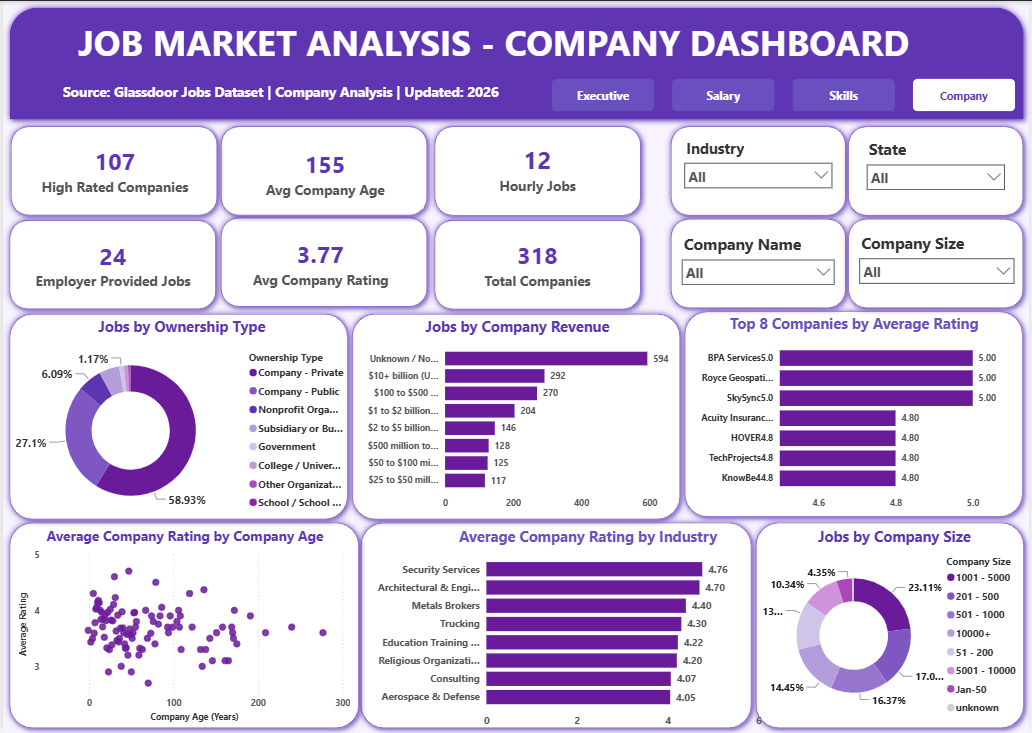

The dashboard page shown, as its layout file describes it:
{"tool":"powerbi","page":{"name":"Company","canvas":[1400,1000],"ordinal":3},"visuals":[{"type":"shape","box":[920.3,414.1,478.9,298.2],"z":0},{"type":"shape","box":[1017.4,702.1,383.4,298.2],"z":1000},{"type":"shape","box":[478.9,702.1,550.4,298.2],"z":2000},{"type":"shape","box":[0,702.1,494.2,298.2],"z":3000},{"type":"shape","box":[466.9,417.5,465.2,298.2],"z":4000},{"type":"shape","box":[0,417.5,478.9,298.2],"z":5000},{"type":"shape","box":[900.7,161.1,256.4,139.7],"z":6000},{"type":"shape","box":[1143.9,161.1,256.4,139.7],"z":7000},{"type":"shape","box":[900.7,287.6,256.4,139.7],"z":8000},{"type":"shape","box":[1143.9,287.6,256.4,139.7],"z":9000},{"type":"shape","box":[580.2,289.3,299.1,139.7],"z":10000},{"type":"shape","box":[580.2,161.1,299.1,139.7],"z":11000},{"type":"shape","box":[288.5,286.9,299.5,139.5],"z":12000},{"type":"shape","box":[288.5,161.5,299.5,139.5],"z":13000},{"type":"shape","box":[0,290,299.5,139.5],"z":14000},{"type":"shape","box":[1.6,161.5,299.5,139.5],"z":15000},{"type":"cardVisual","fields":{"Data":["Measures (2).High Rating Companies"]},"box":[17.2,172.5,271.2,117.6],"z":16000},{"type":"shape","box":[0,0,1400.3,170.2],"z":17000},{"type":"textbox","box":[8.5,18.7,1320.7,86.9],"z":18000},{"type":"cardVisual","fields":{"Data":["Measures (2).Total Companies"]},"box":[606.5,300.8,244.9,118.3],"z":19000},{"type":"cardVisual","fields":{"Data":["Measures (2).Average Company Rating"]},"box":[300.8,297.5,266.3,118.3],"z":20000},{"type":"cardVisual","fields":{"Data":["Measures (2).Average Company Age"]},"box":[297.9,178.7,282.2,111.3],"z":21000},{"type":"cardVisual","fields":{"Data":["Measures (2).Total Hourly Jobs"]},"box":[603.2,170.9,251.5,116.7],"z":22000},{"type":"cardVisual","fields":{"Data":["Measures (2).Employer Provided Jobs"]},"box":[7.8,305.7,283.8,109.7],"z":23000},{"type":"slicer","fields":{"Values":["Job_Market_Analysis.Company Name"]},"box":[915.5,312.3,228.5,95.3],"z":24000},{"type":"slicer","fields":{"Values":["Job_Market_Analysis.Company Size"]},"box":[1157.1,310.6,231.7,98.6],"z":25000},{"type":"slicer","fields":{"Values":["Job_Market_Analysis.State"]},"box":[1166.9,182.4,208.7,95.3],"z":26000},{"type":"slicer","fields":{"Values":["Job_Market_Analysis.Industry"]},"box":[918.8,182.4,221.9,100.3],"z":27000},{"type":"clusteredBarChart","title":"Average Company Rating by Industry","fields":{"Category":["Job_Market_Analysis.Industry"],"Y":["Measures (2).Avg Company Rating"]},"box":[494.2,715.8,606.7,284.6],"z":28000},{"type":"donutChart","title":"Jobs by Company Size","fields":{"Y":["Measures (2).Total Jobs"],"Category":["Job_Market_Analysis.Company Size"]},"box":[1029.3,715.8,371.5,272.7],"z":29000},{"type":"clusteredBarChart","title":"Jobs by Company Revenue","fields":{"Category":["Job_Market_Analysis.Company Revenue"],"Y":["Measures (2).Total Jobs"]},"box":[478.9,429.5,444.8,272.7],"z":30000},{"type":"donutChart","title":"Jobs by Ownership Type","fields":{"Category":["Job_Market_Analysis.Ownership Type"],"Y":["Measures (2).Total Jobs"]},"box":[8.5,429.5,470.4,286.3],"z":31000},{"type":"scatterChart","title":"Average Company Rating by Company Age","fields":{"X":["Job_Market_Analysis.Company Age"],"Y":["Avg(Job_Market_Analysis.Company Rating)"]},"box":[17,715.8,461.8,272.7],"z":32000},{"type":"clusteredBarChart","title":"Top 8 Companies by Average Rating","fields":{"Category":["Job_Market_Analysis.Company Name"],"Y":["Measures (2).Avg Company Rating"]},"box":[932.2,426,456.7,276.1],"z":33000},{"type":"pageNavigator","box":[748.8,105.3,632.1,45.4],"z":34000},{"type":"textbox","box":[22.7,105.3,713.1,45.4],"z":35000}]}

Visuals, with their boxes in screenshot pixels (x1, y1, x2, y2), scaled from the page's 1400x1000 canvas onto the 1032x733 screenshot:
shape: <box>678,304,1031,522</box>
shape: <box>750,515,1031,732</box>
shape: <box>353,515,759,732</box>
shape: <box>0,515,364,732</box>
shape: <box>344,306,687,525</box>
shape: <box>0,306,353,525</box>
shape: <box>664,118,853,220</box>
shape: <box>843,118,1031,220</box>
shape: <box>664,211,853,313</box>
shape: <box>843,211,1031,313</box>
shape: <box>428,212,648,314</box>
shape: <box>428,118,648,220</box>
shape: <box>213,210,433,313</box>
shape: <box>213,118,433,221</box>
shape: <box>0,213,221,315</box>
shape: <box>1,118,222,221</box>
cardVisual - Measures (2).High Rating Companies: <box>13,126,213,213</box>
shape: <box>0,0,1031,125</box>
textbox: <box>6,14,980,77</box>
cardVisual - Measures (2).Total Companies: <box>447,220,628,307</box>
cardVisual - Measures (2).Average Company Rating: <box>222,218,418,305</box>
cardVisual - Measures (2).Average Company Age: <box>220,131,428,213</box>
cardVisual - Measures (2).Total Hourly Jobs: <box>445,125,630,211</box>
cardVisual - Measures (2).Employer Provided Jobs: <box>6,224,215,304</box>
slicer - Job_Market_Analysis.Company Name: <box>675,229,843,299</box>
slicer - Job_Market_Analysis.Company Size: <box>853,228,1024,300</box>
slicer - Job_Market_Analysis.State: <box>860,134,1014,204</box>
slicer - Job_Market_Analysis.Industry: <box>677,134,841,207</box>
"Average Company Rating by Industry" clusteredBarChart: <box>364,525,812,732</box>
"Jobs by Company Size" donutChart: <box>759,525,1031,725</box>
"Jobs by Company Revenue" clusteredBarChart: <box>353,315,681,515</box>
"Jobs by Ownership Type" donutChart: <box>6,315,353,525</box>
"Average Company Rating by Company Age" scatterChart: <box>13,525,353,725</box>
"Top 8 Companies by Average Rating" clusteredBarChart: <box>687,312,1024,515</box>
pageNavigator: <box>552,77,1018,110</box>
textbox: <box>17,77,542,110</box>
